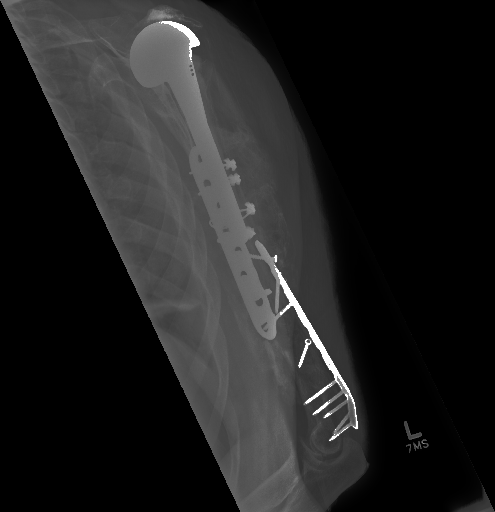implant: (184, 144, 357, 438), (129, 21, 255, 241)
